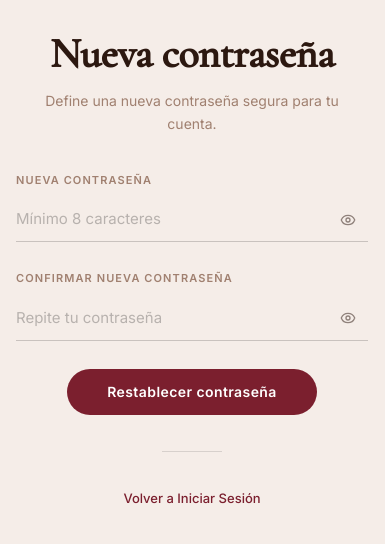
Test: RecuperarContrasena › token expirado muestra mensaje amigable
Step 1. Type "NuevaPassword123" into the password field labelled "Nueva contraseña" → x=192, y=220, box [16,197,368,242]
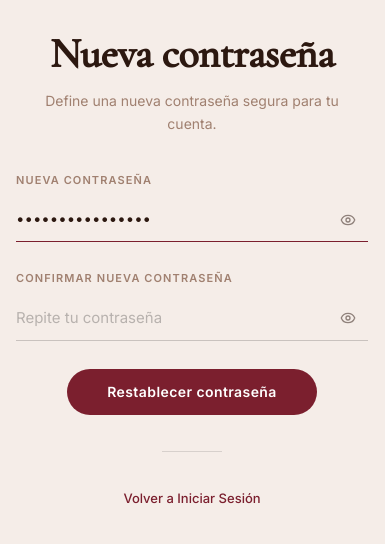
Step 2. Type "NuevaPassword123" into the password field labelled "Confirmar nueva contraseña" → x=192, y=318, box [16,296,368,341]
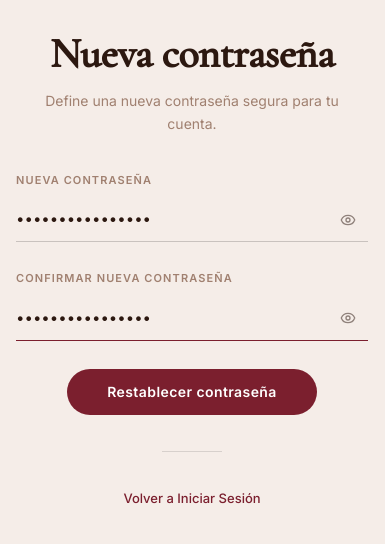
Step 3. Click the button "Restablecer contraseña" → x=192, y=392, box [67,369,317,415]
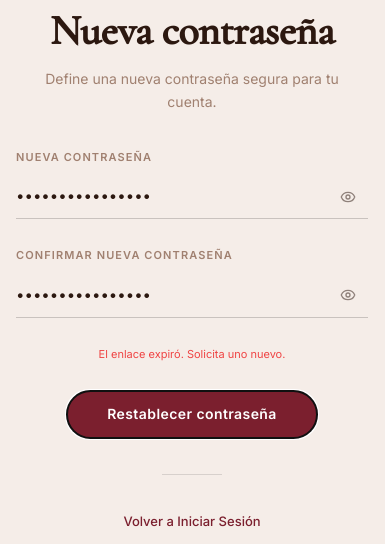
expect the text "El enlace expiró. Solicita uno nuevo." is shown: met, box [99,346,285,364]
